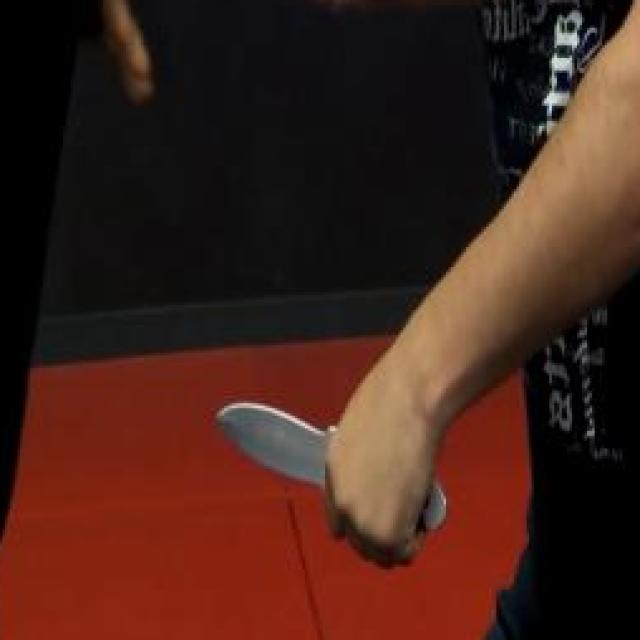knife: (209, 383, 454, 571)
